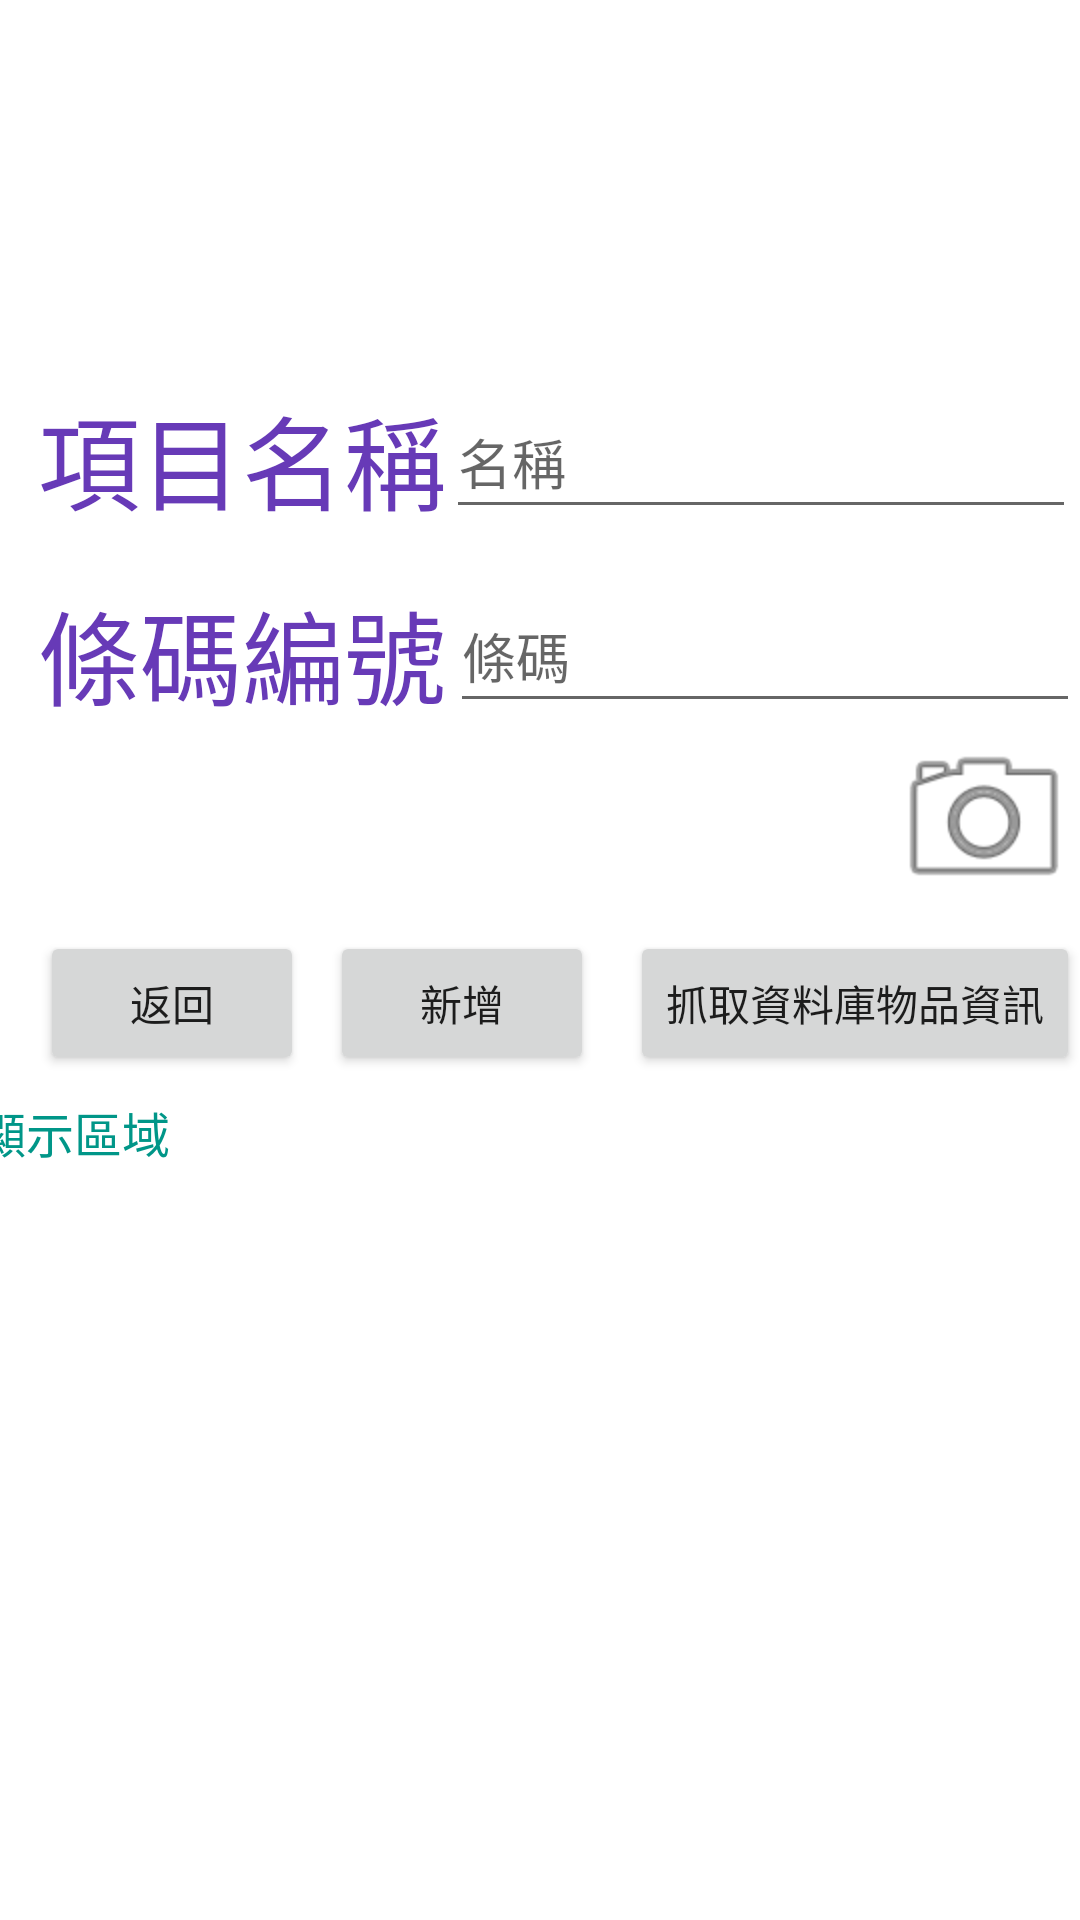

Icons on this 1080 x 1920 Android screen, each with its box as bbox=(x1, y1, x2, y2):
camera: bbox=(910, 757, 1058, 875)
